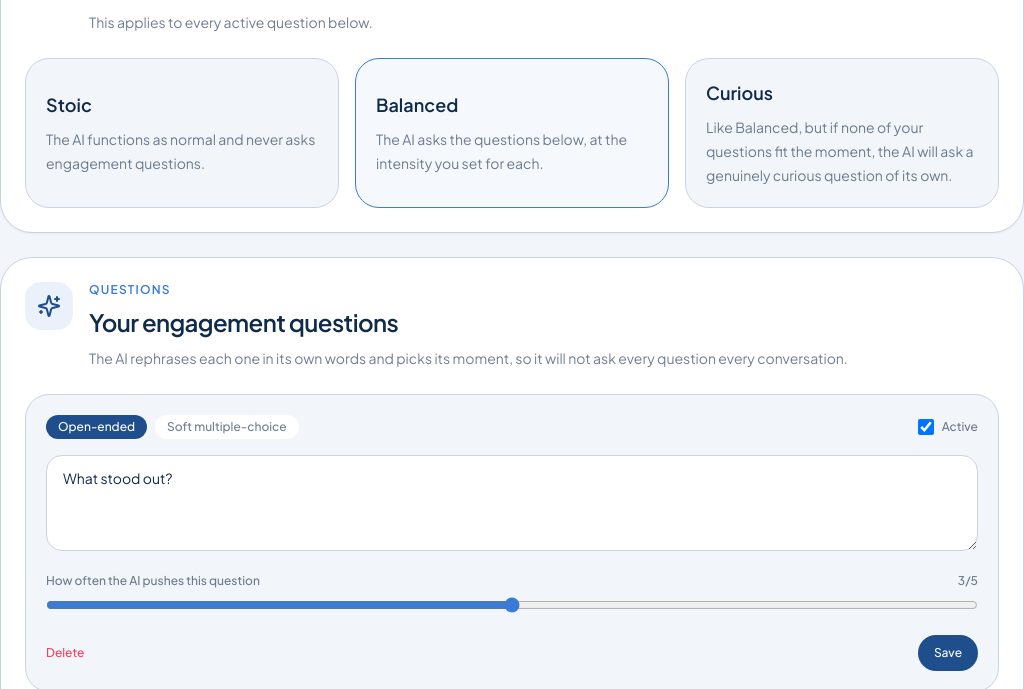
Test: EngagementQuestionsManager › retains a stale update draft after conflict and gives safe refresh guidance
Replace the text in the text box showing "What stood out?" with "Updated prompt". click: [512, 503]
box: [46,455,978,551]
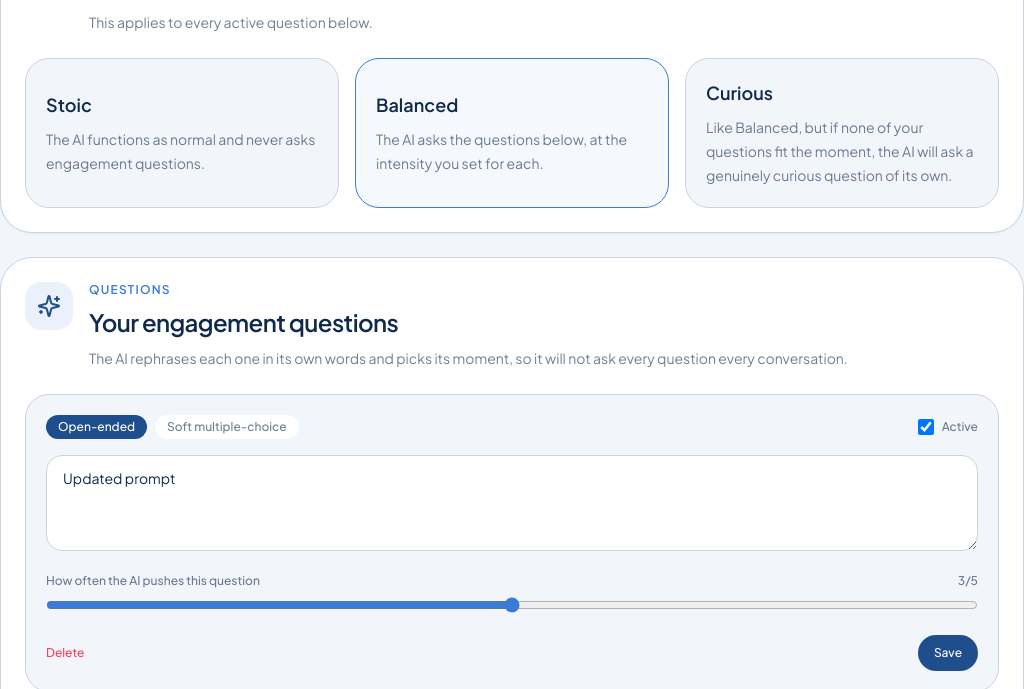
Click the button "Save". click: [948, 653]
box: [918,635,978,671]
(page scrolled)
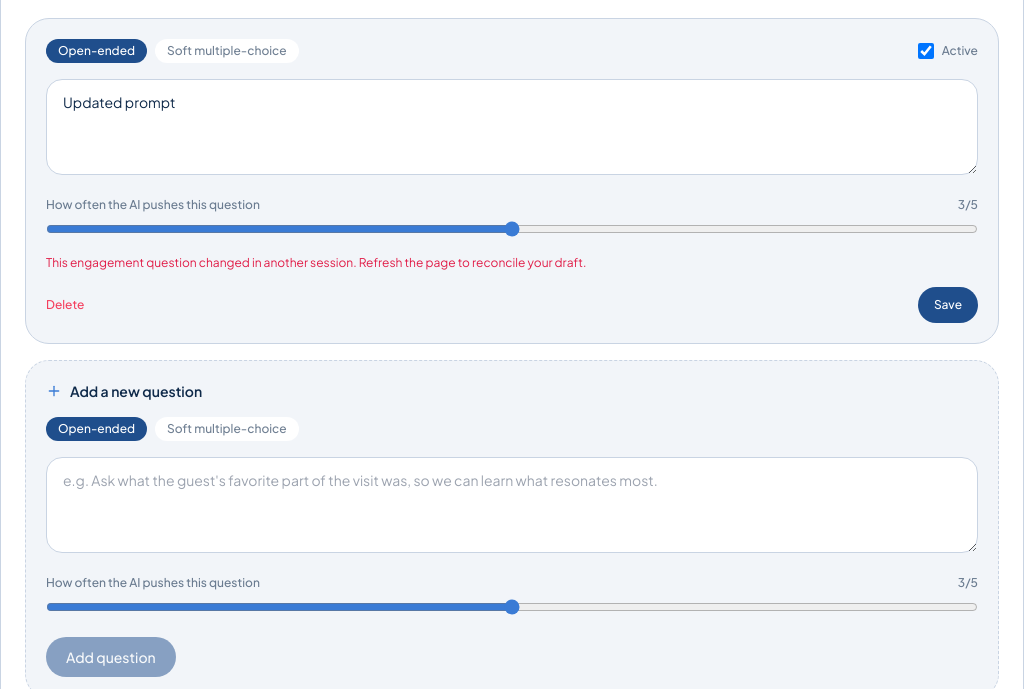
Expected: the button "Save" is enabled, [918,287,978,323]
Expected: the message shows "Refresh the page to reconcile your draft.", [46,255,586,270]
